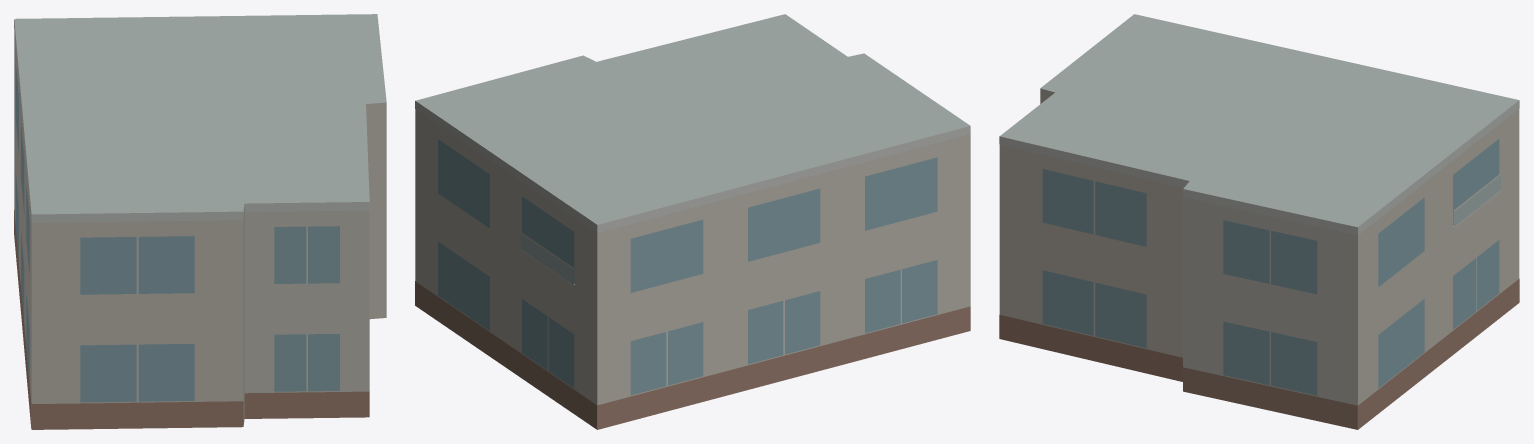
File: survey-upis-32703026.glb
3 renders of one model, left to right at view 1: azimuth 30°, elevation 25°; view 2: azimuth 150°, elevation 25°; view 3: azimuth 270°, elevation 25°, orthographic. The views are drawn at different scales.
Visible parts, largest first — view 1: survey-upis-32703026.tmp; view 2: survey-upis-32703026.tmp; view 3: survey-upis-32703026.tmp.
Part boxes in pixels (<box>): survey-upis-32703026.tmp: <box>14,14,386,429</box>; survey-upis-32703026.tmp: <box>415,14,970,429</box>; survey-upis-32703026.tmp: <box>999,14,1519,429</box>.
Size of the model in its own units: 13.78 by 6.1 by 14.2.
